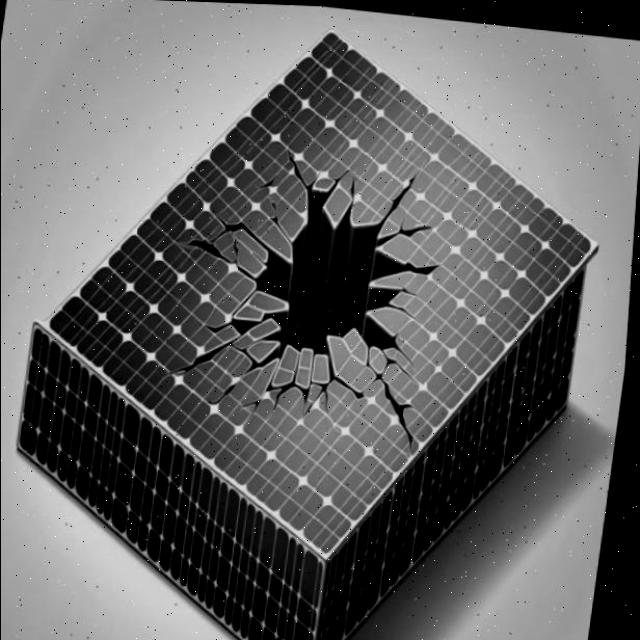Anomaly Solar Panel: (45, 3, 596, 555)
Structural Damage: (226, 172, 443, 397), (305, 327, 449, 450), (232, 345, 334, 431), (180, 195, 282, 281), (192, 318, 289, 407), (168, 330, 246, 382), (372, 160, 428, 230), (370, 195, 437, 248), (277, 134, 329, 191), (382, 325, 422, 374), (265, 194, 297, 245), (389, 293, 429, 320), (326, 160, 353, 197), (407, 255, 445, 272), (206, 317, 235, 334), (255, 170, 281, 188), (350, 162, 360, 195), (403, 280, 423, 295)
